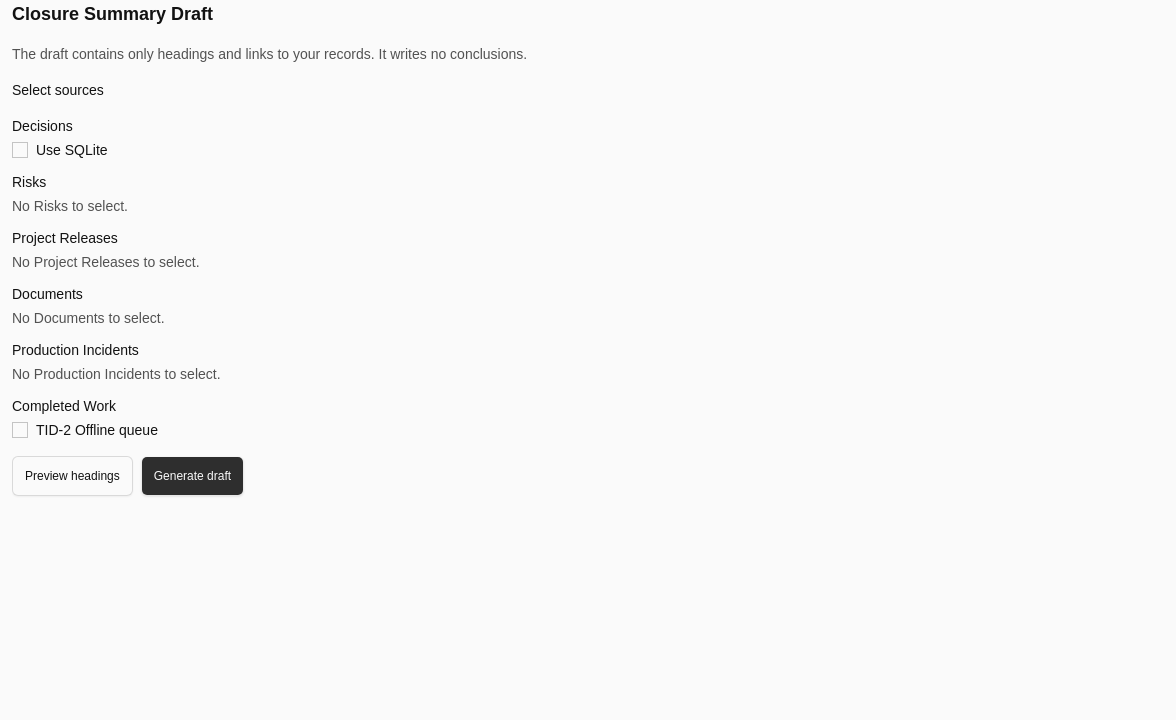
Test: generates an editable headings-and-links draft and discards it
This screenshot has width=1176, height=720.
Click the checkbox labelled "Use SQLite". click: (72, 150)
box: [36, 140, 108, 160]
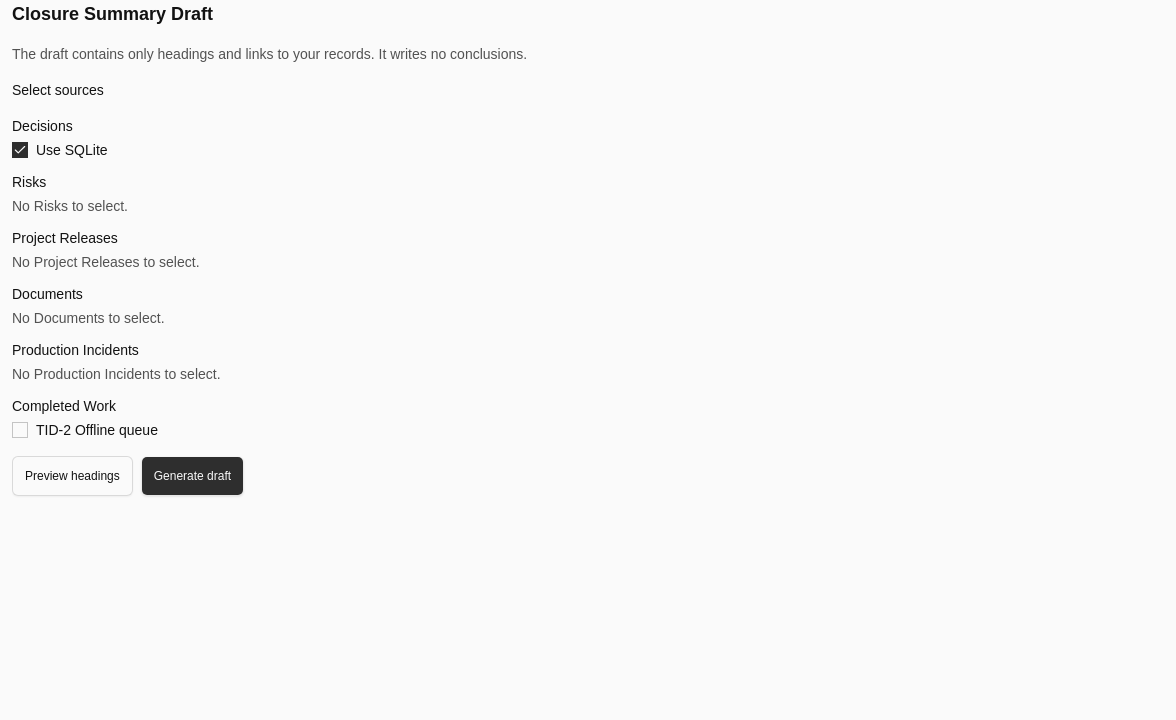
Click the button "Generate draft". click: (192, 476)
box: [141, 456, 244, 496]
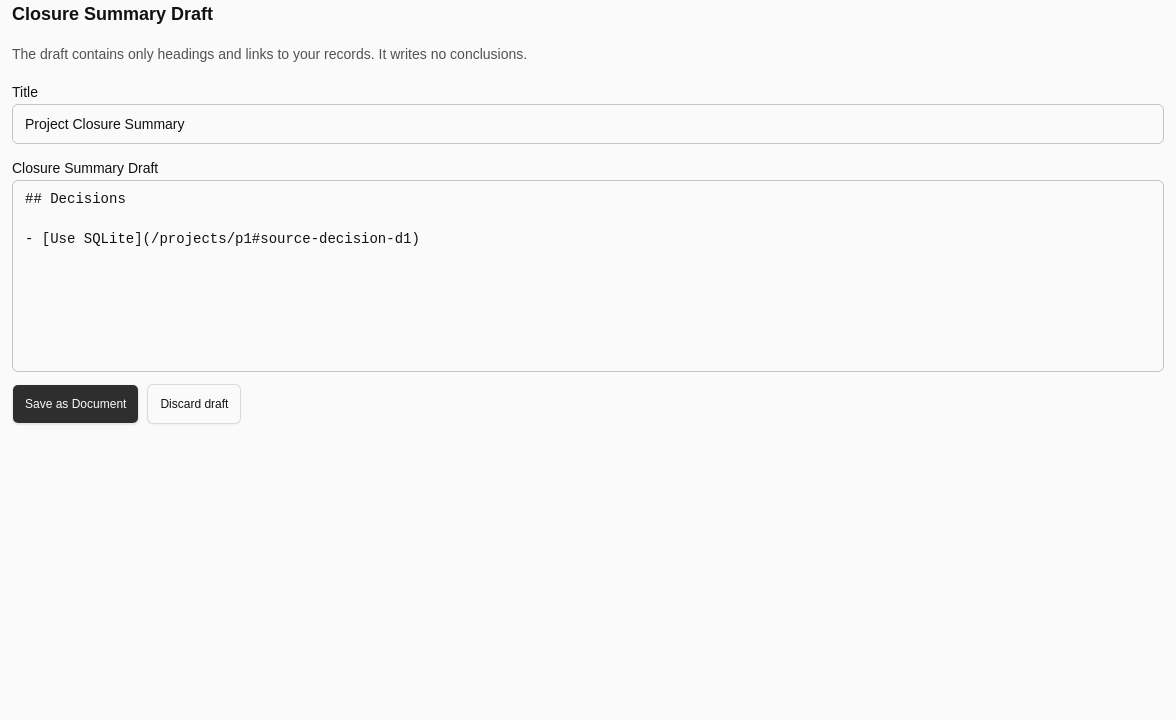
Click the button "Discard draft". click: (194, 404)
box: [147, 384, 241, 424]
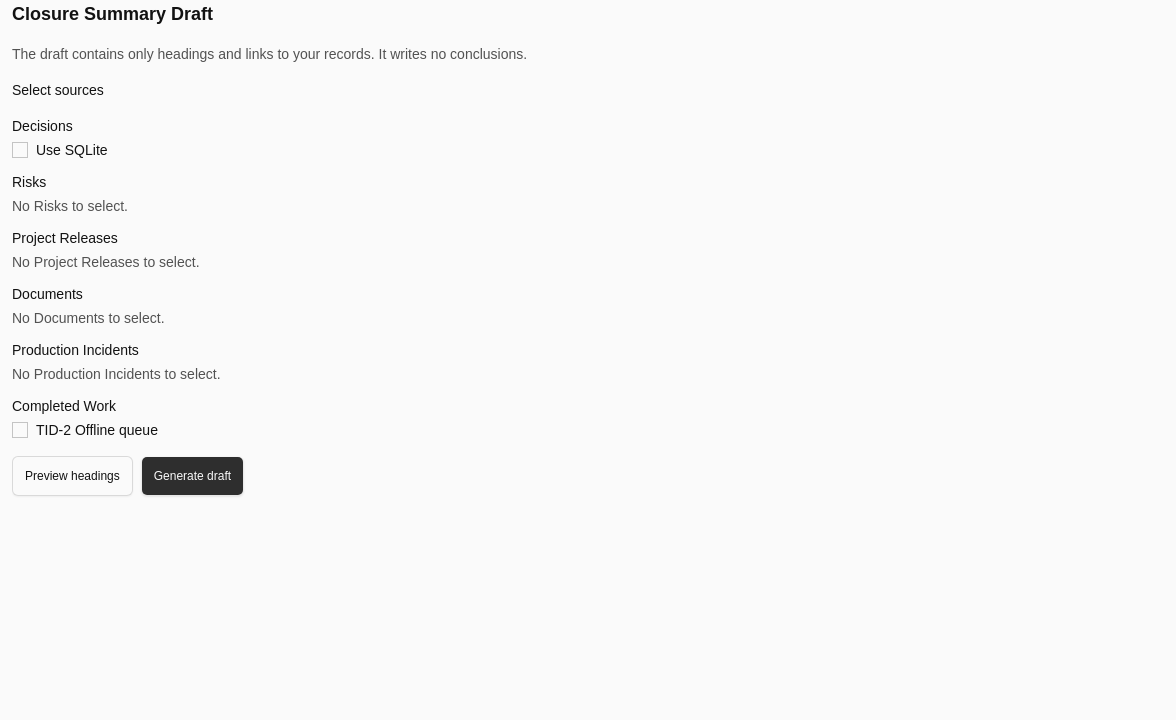
Now the text box is gone
Now the text "Select sources" is shown, box [12, 82, 104, 98]
